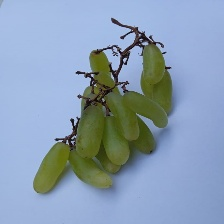grapes: (45, 54, 191, 189)
